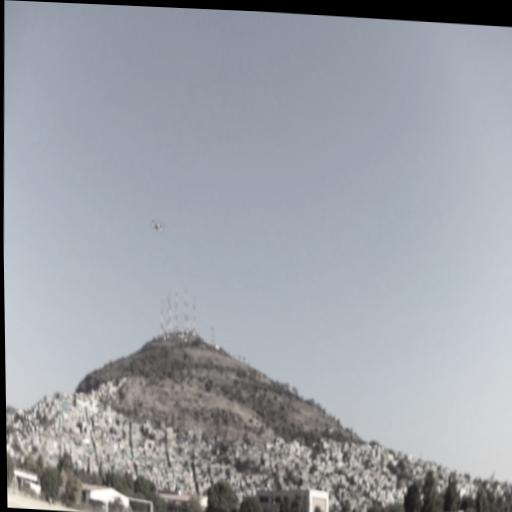drones: (148, 215, 165, 235)
